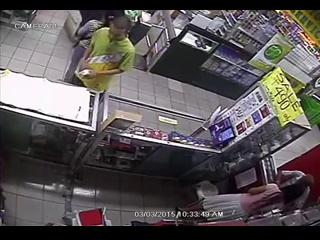Normal: (72, 16, 136, 92), (61, 13, 109, 85)
